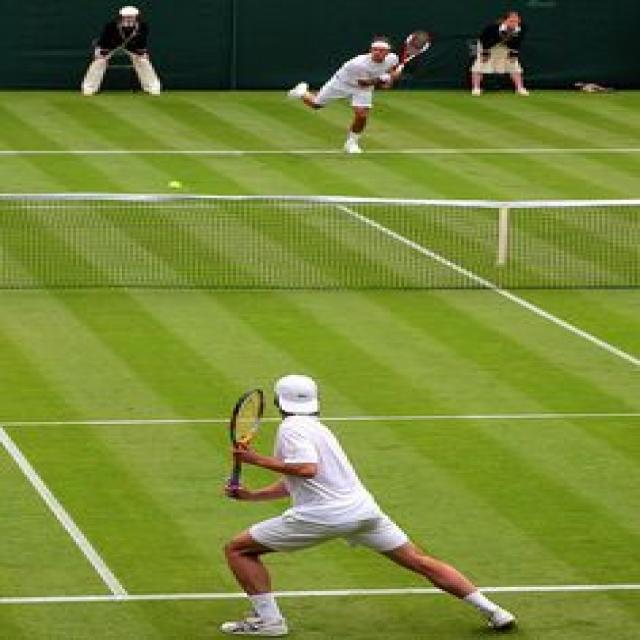tennis: (165, 179, 189, 192)
